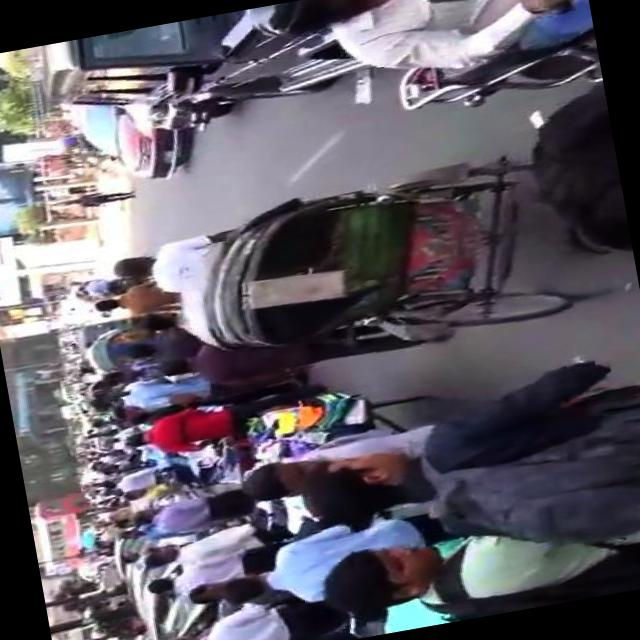car: (69, 86, 193, 192), (128, 534, 207, 640), (105, 526, 138, 596)
motorcycle: (162, 146, 590, 384), (242, 0, 594, 143), (82, 326, 143, 378), (68, 275, 140, 304)
truck: (31, 0, 385, 143)
